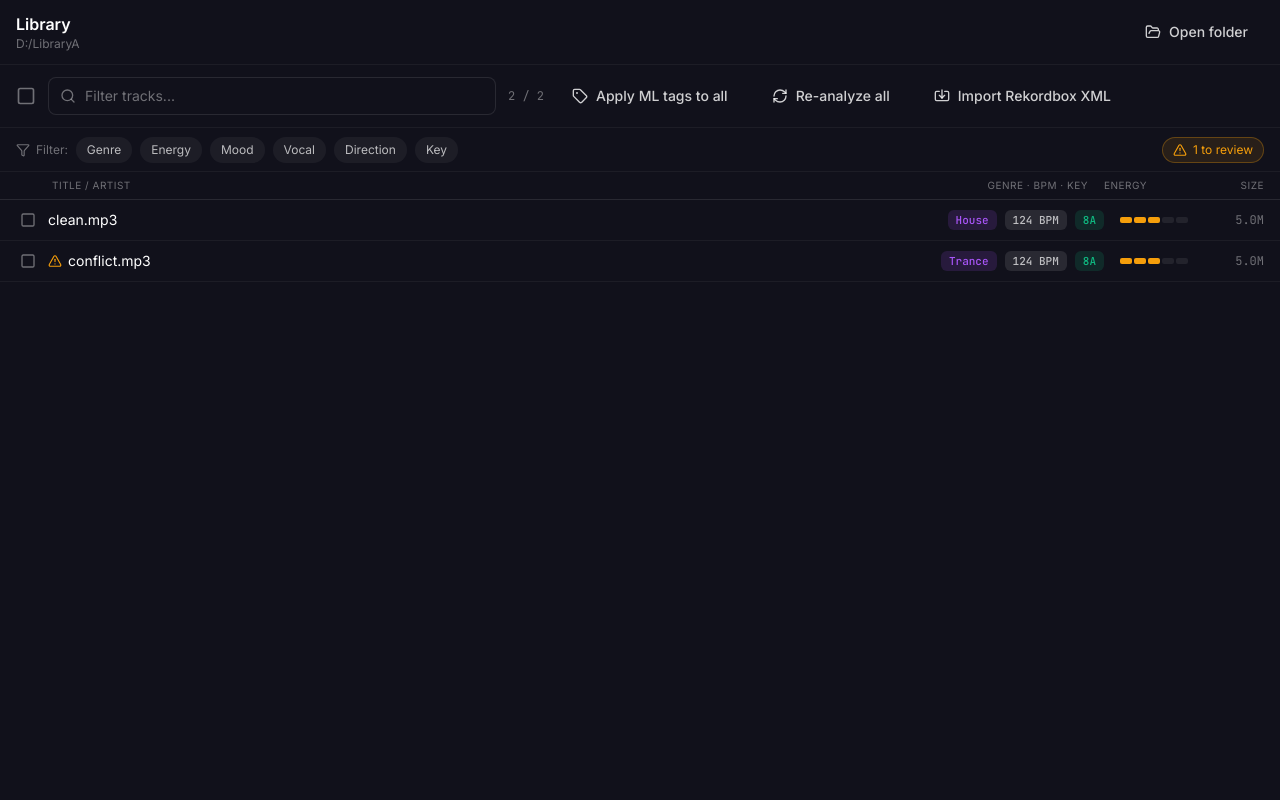
Scenario: <LibraryBrowser /> — review (genre conflict) filter › batch-approves selected conflicts and drains the review queue
The image size is (1280, 800).
# Engage review, then select the (only) visible flagged row.
Click the button "1 to review" at (1213, 150), box [1162,136,1264,162]
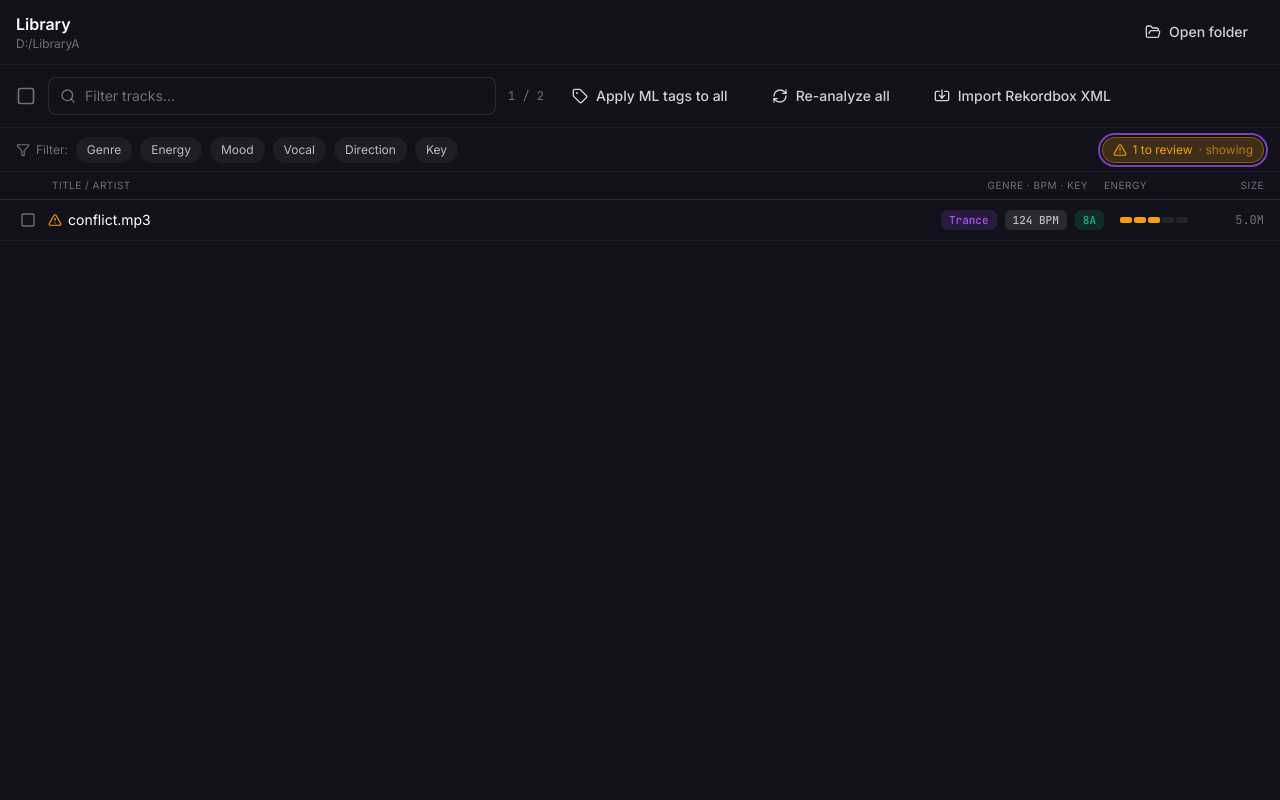
Click the button named "select all" at (26, 96), box [16,86,36,106]
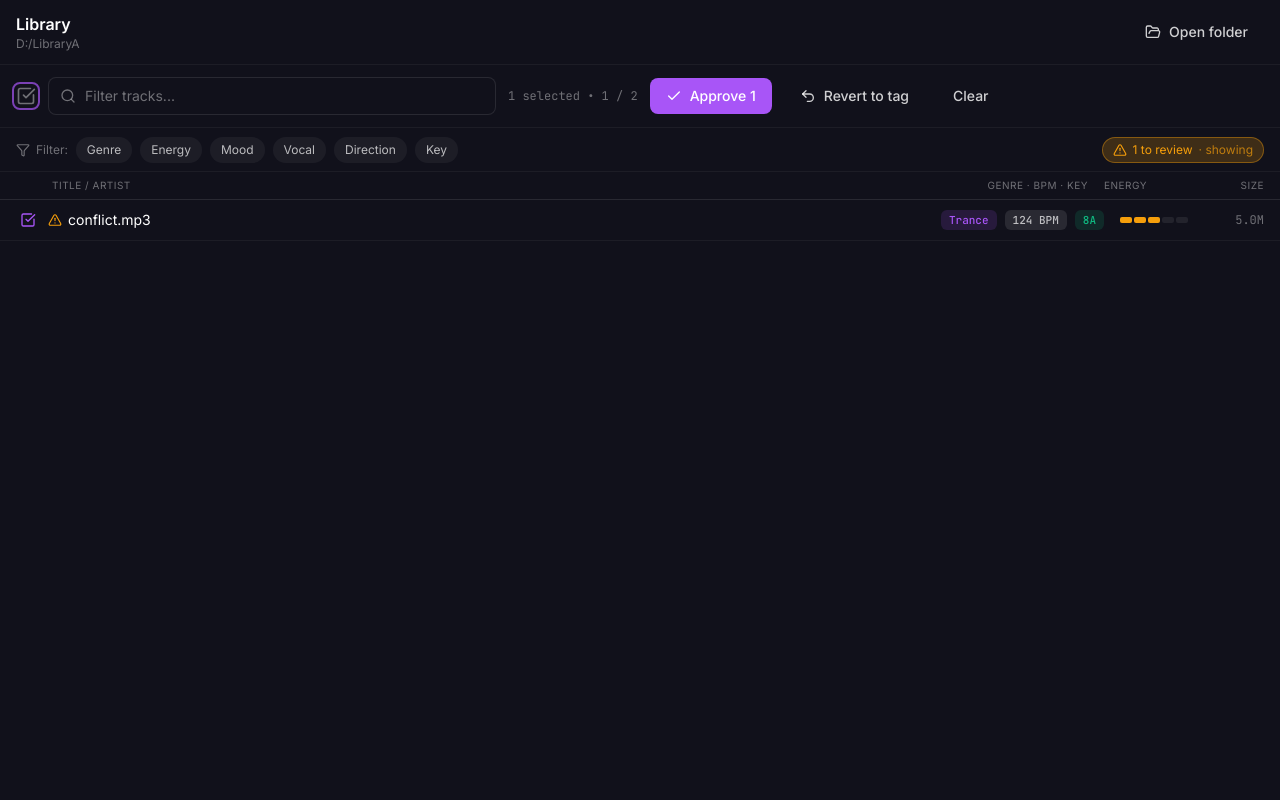
Expected: the button "Apply ML tags" is gone
Click the button "Approve 1" at (711, 96), box [650,78,772,114]
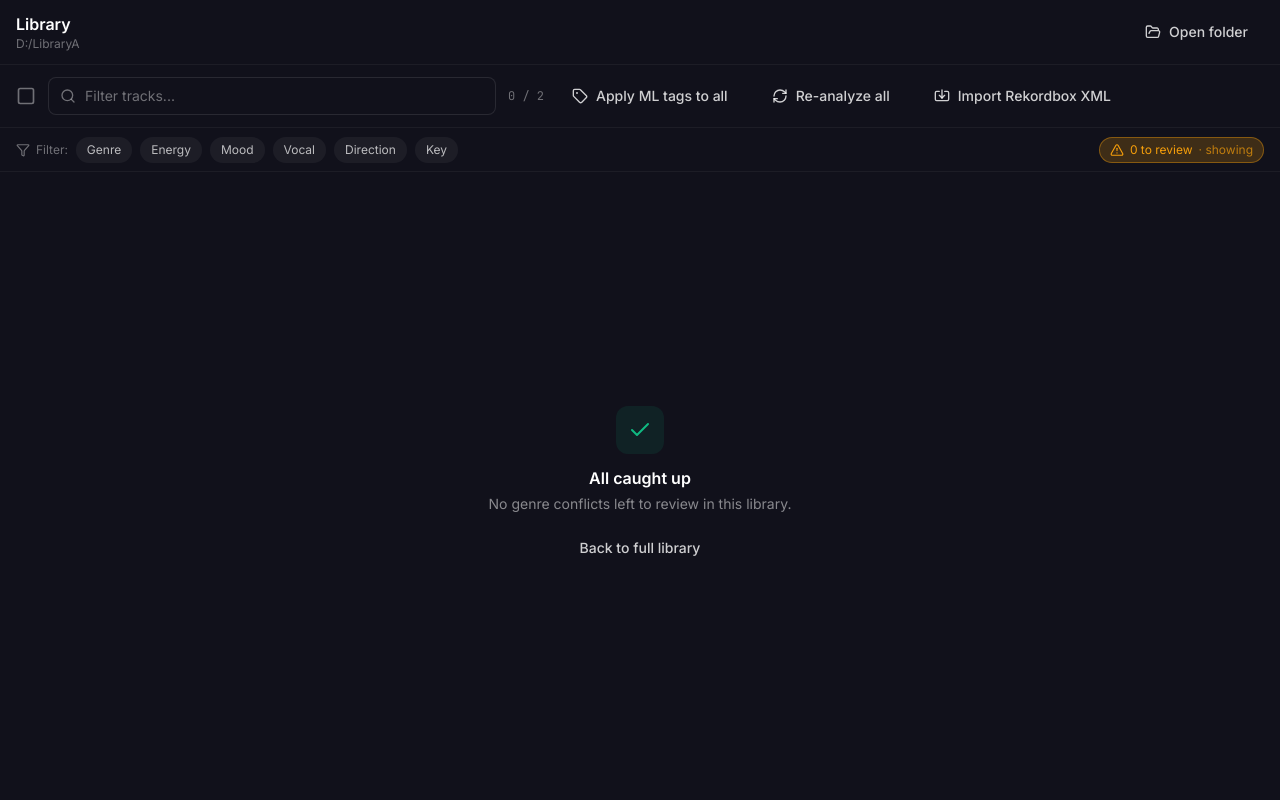
Expected: the heading "All caught up" is shown, [589,468,691,488]
